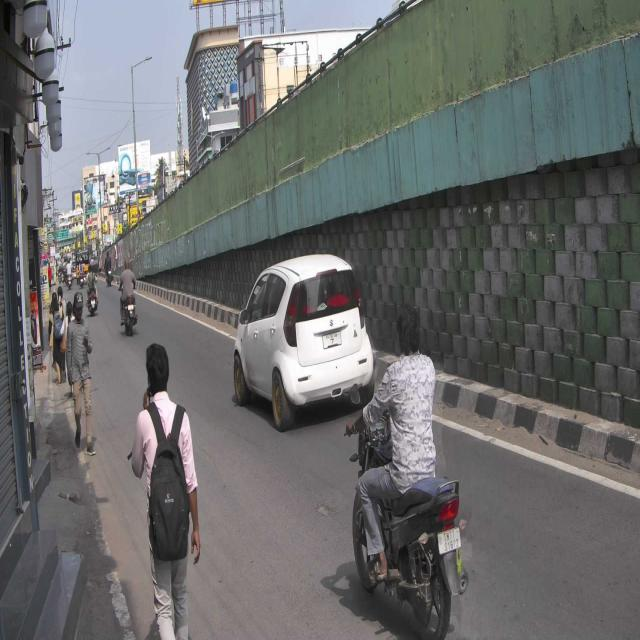single_rider: (342, 300, 469, 640)
